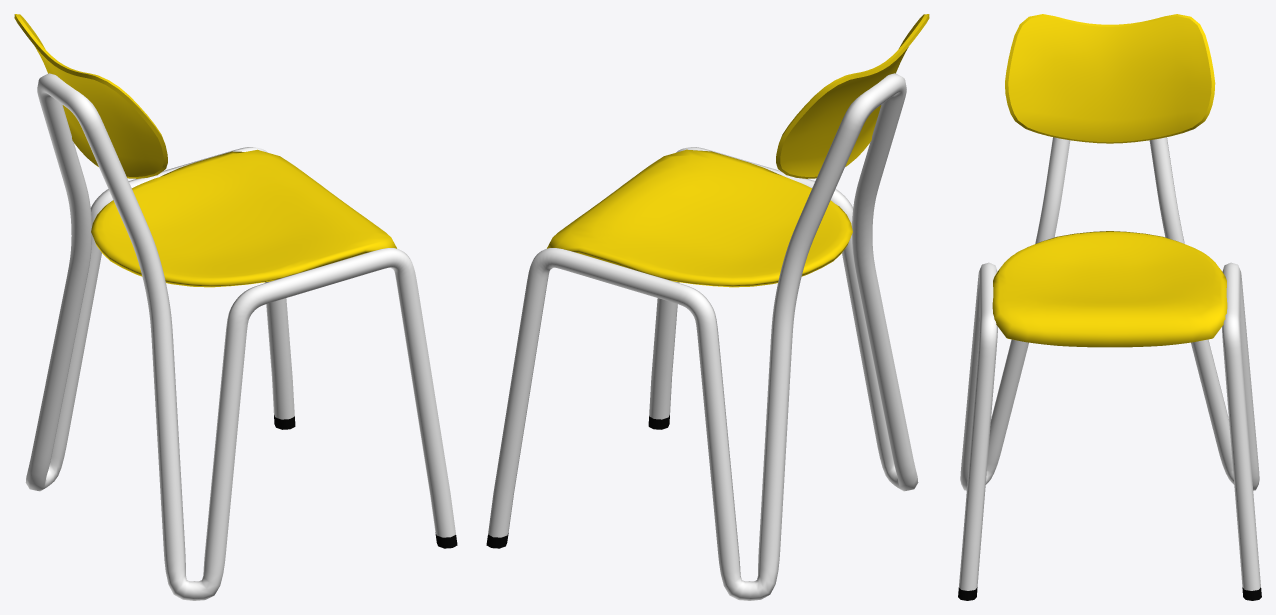
File: chair.glb
The picture shows the model from 3 angles, left to right: view 1: azimuth 30°, elevation 25°; view 2: azimuth 150°, elevation 25°; view 3: azimuth 270°, elevation 25°; orthographic projection. The views are drawn at different scales.
Parts seen in each view (by area): view 1: chair; view 2: chair; view 3: chair.
Part boxes in pixels (x1=…): chair: x1=14, y1=14, x2=457, y2=600; chair: x1=486, y1=14, x2=929, y2=600; chair: x1=958, y1=14, x2=1261, y2=600.
Bounding box in the file's own units: 0.619 × 0.9442 × 0.5775.
